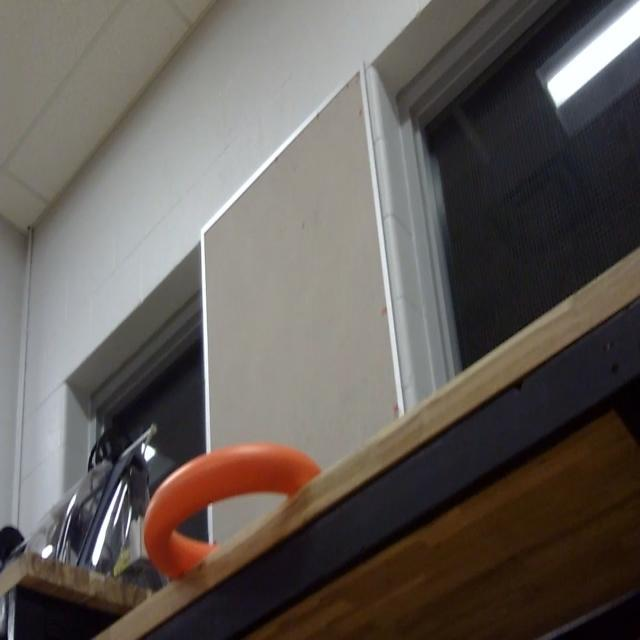note: (143, 437, 324, 582)
